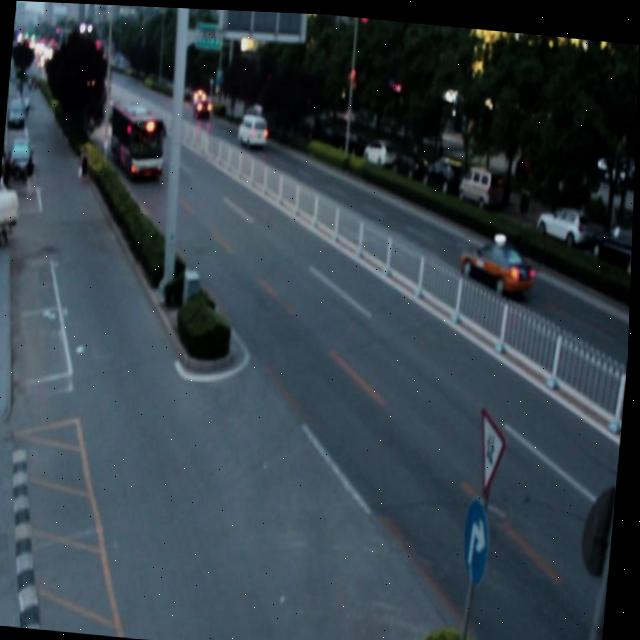car: (458, 227, 538, 294)
truck: (237, 110, 270, 147)
van: (107, 96, 168, 179)
